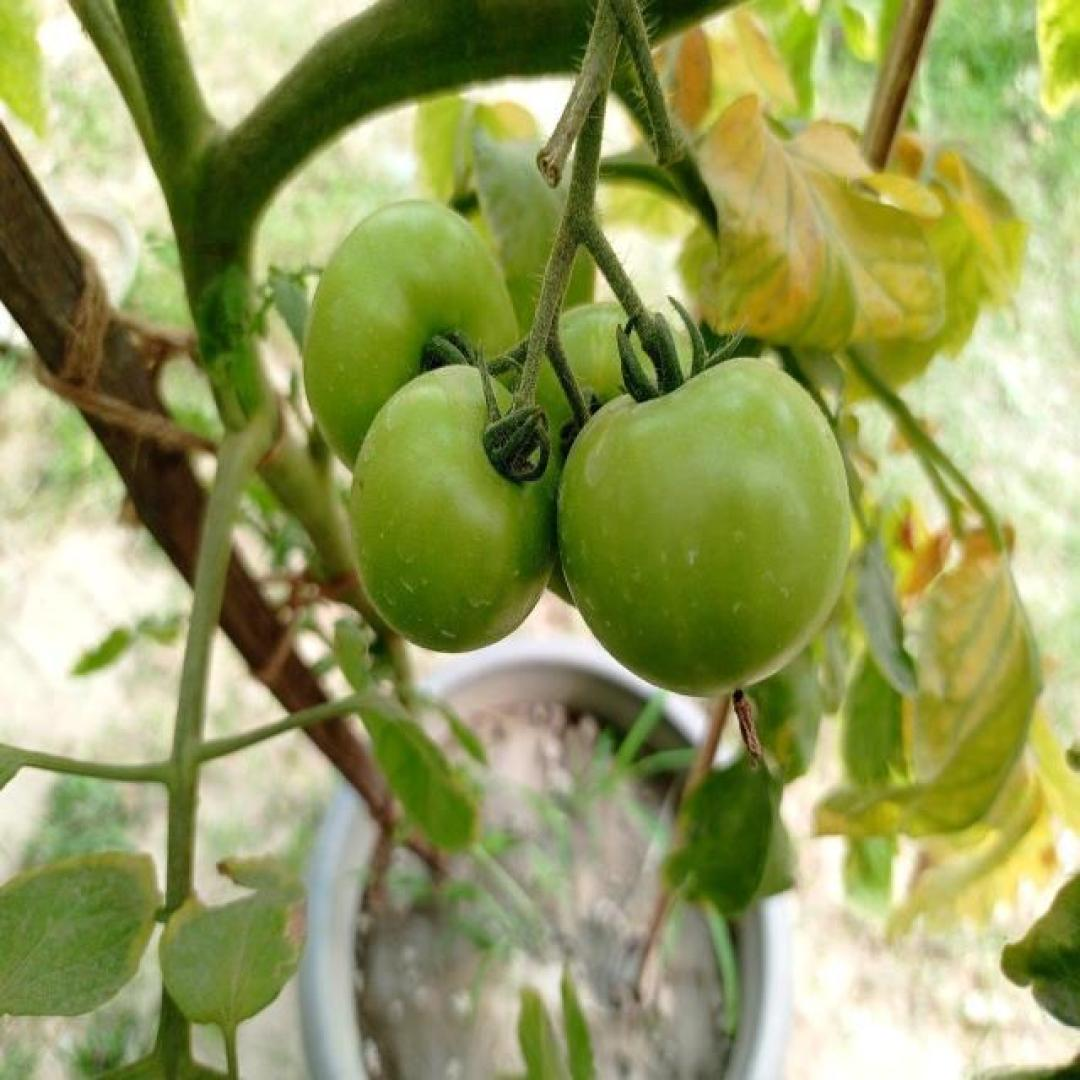mentah: (557, 357, 850, 694), (302, 194, 515, 489), (346, 364, 558, 654)
